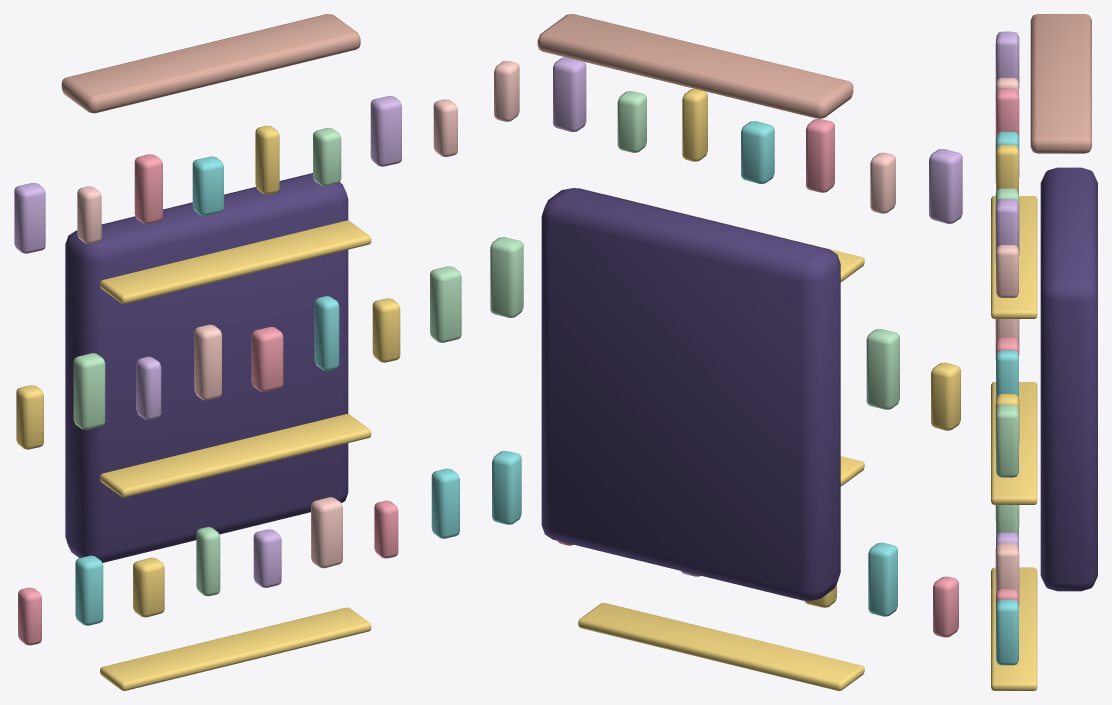
The model's file is royal_bookcase.glb.
3 renders of one model, left to right at view 1: azimuth 30°, elevation 25°; view 2: azimuth 150°, elevation 25°; view 3: azimuth 270°, elevation 25°, orthographic. The views are drawn at different scales.
Visible parts, largest first — view 1: CabinetInk.001, CrownRail, Shelf_0, Shelf_1, Shelf_2, Book_1_1, Book_1_7, Book_0_5, Book_2_0, Book_2_6, Book_1_3, Book_1_4 (+17 smaller); view 2: CabinetInk.001, CrownRail, Shelf_0, Book_1_7, Book_1_1, Book_2_0, Book_2_6, Book_0_1, Book_0_7, Book_2_2, Book_2_3, Book_1_0 (+6 smaller); view 3: CabinetInk.001, CrownRail, Shelf_1, Shelf_0, Shelf_2, Book_1_7, Book_0_7, Book_2_7, Book_2_0, Book_2_6, Book_0_5, Book_2_2 (+11 smaller).
Part boxes in pixels (left/top/right/bottom): CabinetInk.001: left=65, top=173, right=348, bottom=562; CrownRail: left=61, top=14, right=360, bottom=113; Shelf_0: left=100, top=607, right=371, bottom=690; Shelf_1: left=100, top=414, right=371, bottom=497; Shelf_2: left=100, top=220, right=371, bottom=303; Book_1_1: left=73, top=353, right=105, bottom=429; Book_1_7: left=430, top=266, right=461, bottom=342; Book_0_5: left=311, top=497, right=342, bottom=568; Book_2_0: left=14, top=183, right=45, bottom=253; Book_2_6: left=370, top=96, right=401, bottom=166; Book_1_3: left=194, top=324, right=221, bottom=400; Book_1_4: left=251, top=326, right=283, bottom=391; CabinetInk.001: left=541, top=188, right=840, bottom=600; CrownRail: left=537, top=14, right=853, bottom=118; Shelf_0: left=578, top=603, right=864, bottom=690; Book_1_7: left=490, top=237, right=523, bottom=317; Book_1_1: left=866, top=329, right=899, bottom=409; Book_2_0: left=929, top=149, right=962, bottom=223; Book_2_6: left=553, top=57, right=586, bottom=131; Book_0_1: left=868, top=542, right=897, bottom=616; Book_0_7: left=492, top=451, right=521, bottom=524; Book_2_2: left=806, top=119, right=834, bottom=192; Book_2_3: left=741, top=121, right=774, bottom=183; Book_1_0: left=931, top=362, right=960, bottom=430; CabinetInk.001: left=1040, top=167, right=1097, bottom=591; CrownRail: left=1030, top=14, right=1091, bottom=153; Shelf_1: left=991, top=382, right=1037, bottom=504; Shelf_0: left=991, top=567, right=1037, bottom=690; Shelf_2: left=991, top=196, right=1037, bottom=318; Book_1_7: left=996, top=404, right=1018, bottom=477; Book_0_7: left=996, top=599, right=1018, bottom=665; Book_2_7: left=996, top=245, right=1018, bottom=297; Book_2_0: left=995, top=31, right=1019, bottom=93; Book_2_6: left=995, top=199, right=1019, bottom=260; Book_0_5: left=995, top=543, right=1019, bottom=604; Book_2_2: left=995, top=88, right=1019, bottom=142.
Bounding box in the file's own units: 7.26 × 9.16 × 1.59.
